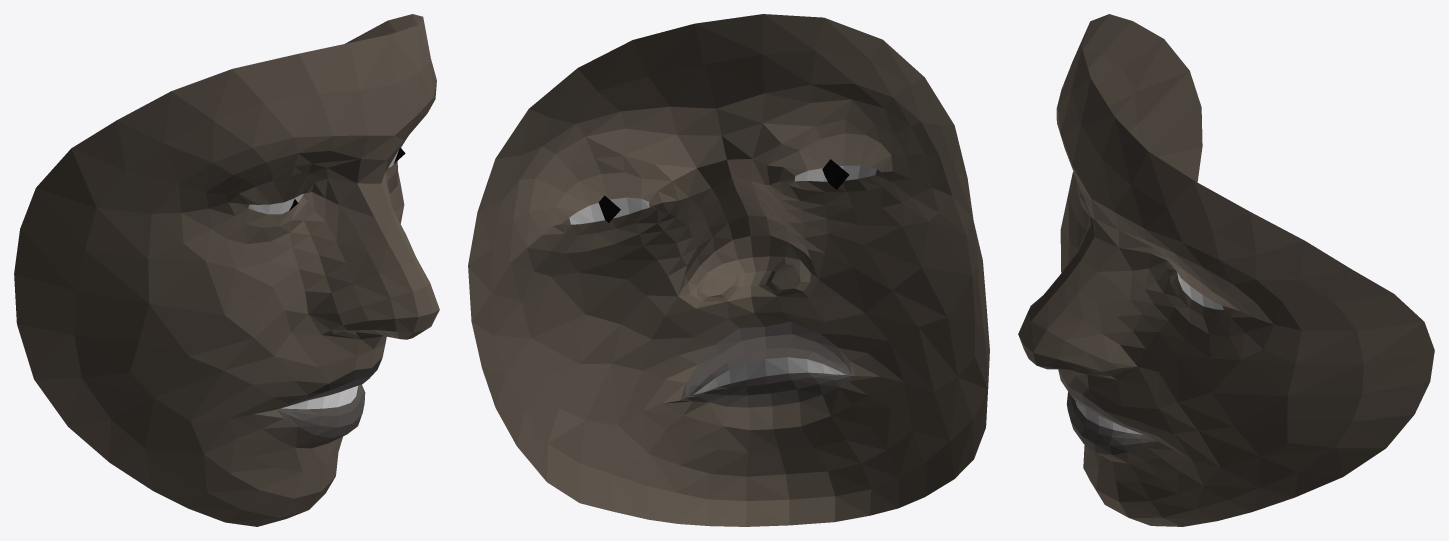
File: frame_00067.obj
3 renders of one model, left to right at view 1: azimuth 30°, elevation 25°; view 2: azimuth 150°, elevation 25°; view 3: azimuth 270°, elevation 25°, orthographic. The views are drawn at different scales.
Parts seen in each view (by area): view 1: face_model_with_iris; view 2: face_model_with_iris; view 3: face_model_with_iris.
Part boxes in pixels (<box>): face_model_with_iris: <box>14,14,439,526</box>; face_model_with_iris: <box>468,14,989,526</box>; face_model_with_iris: <box>1018,14,1434,526</box>.
Bounding box in the file's own units: 0.4939 × 0.5326 × 0.4362.
